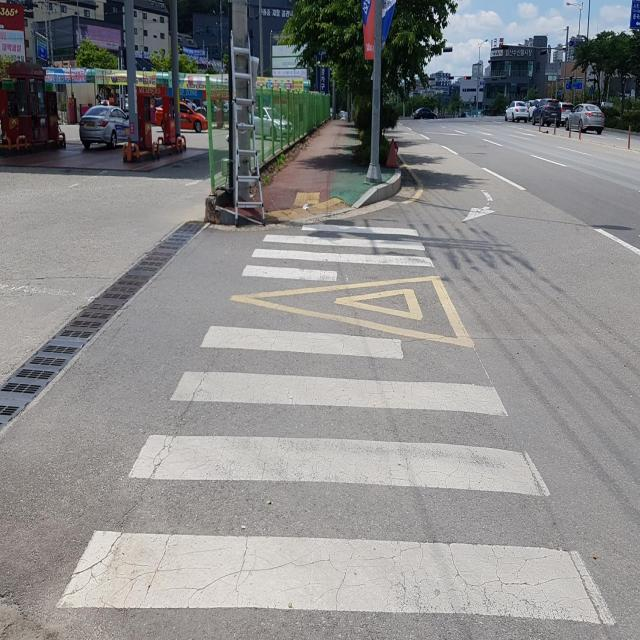횡단보도: (50, 214, 620, 631)
